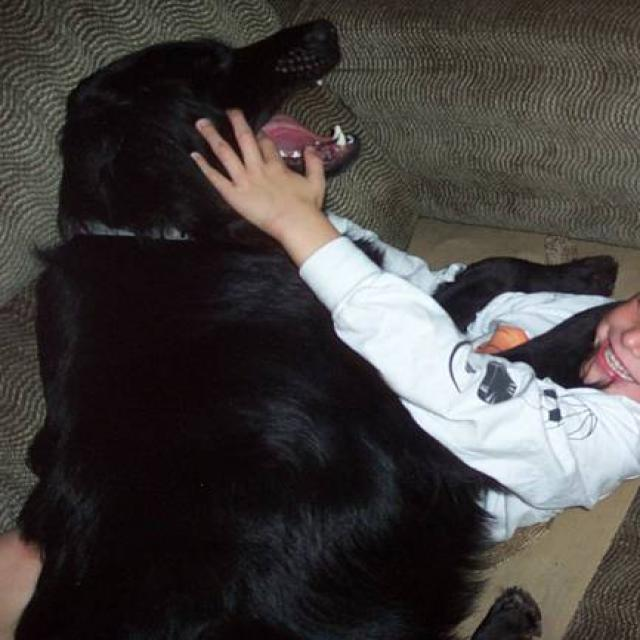dog: (4, 16, 569, 639)
